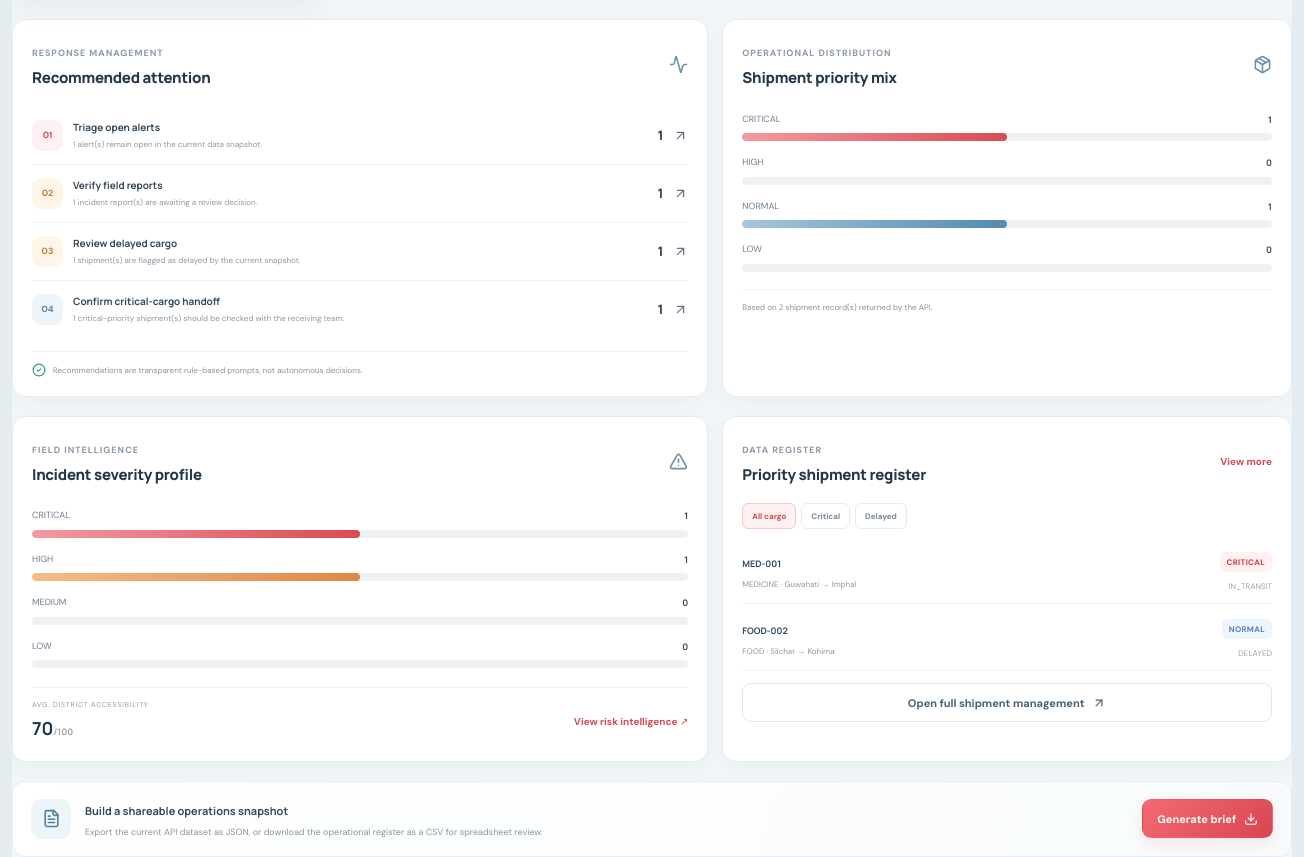
Test: OperationsBrief › filters the shipment register by critical and delayed cargo
(page scrolled)
Click the button "Critical": (826, 516) [801,503,850,529]
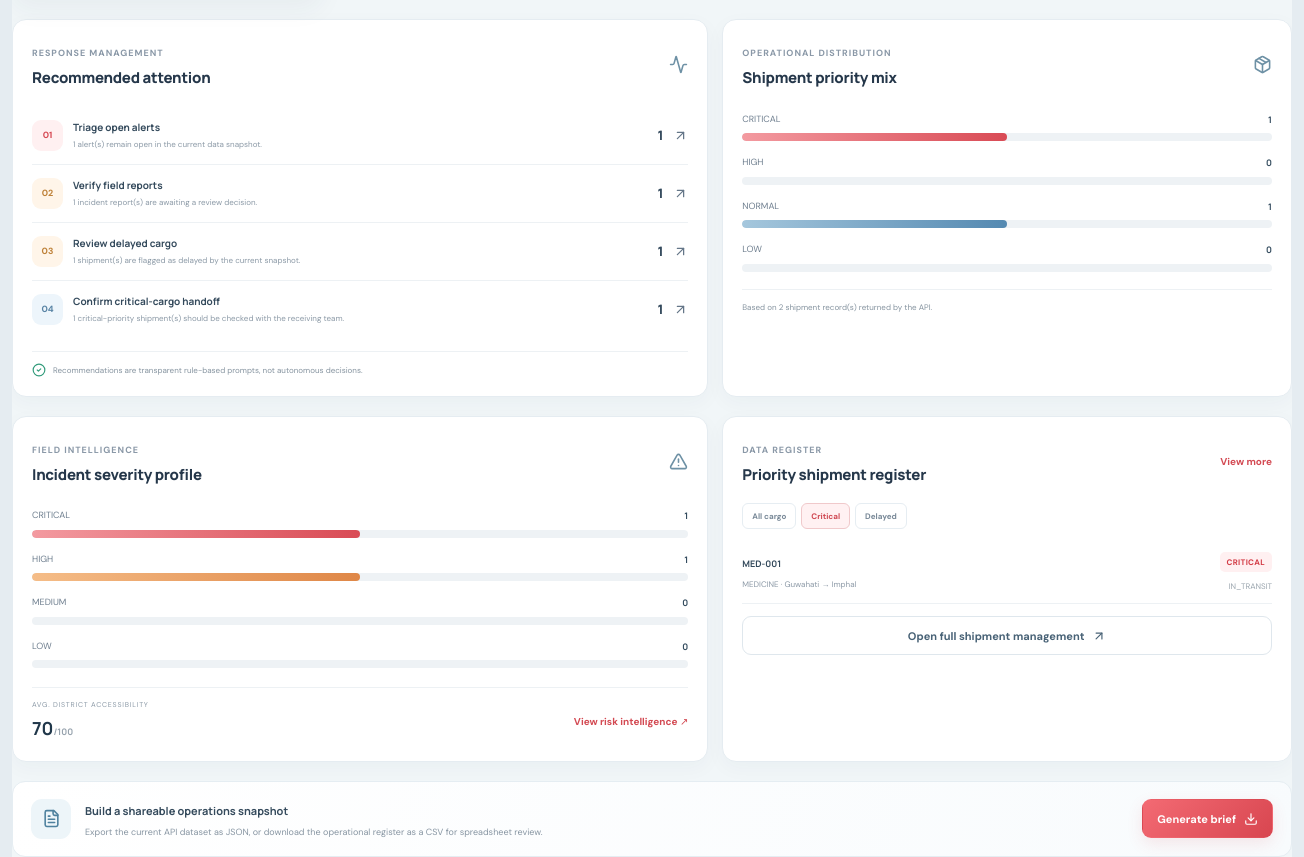
Check: the text "MED-001" is shown, box [742,557,781,570]
Check: the text "FOOD-002" is gone
Click the button "Delayed": (881, 516) [855,503,907,529]
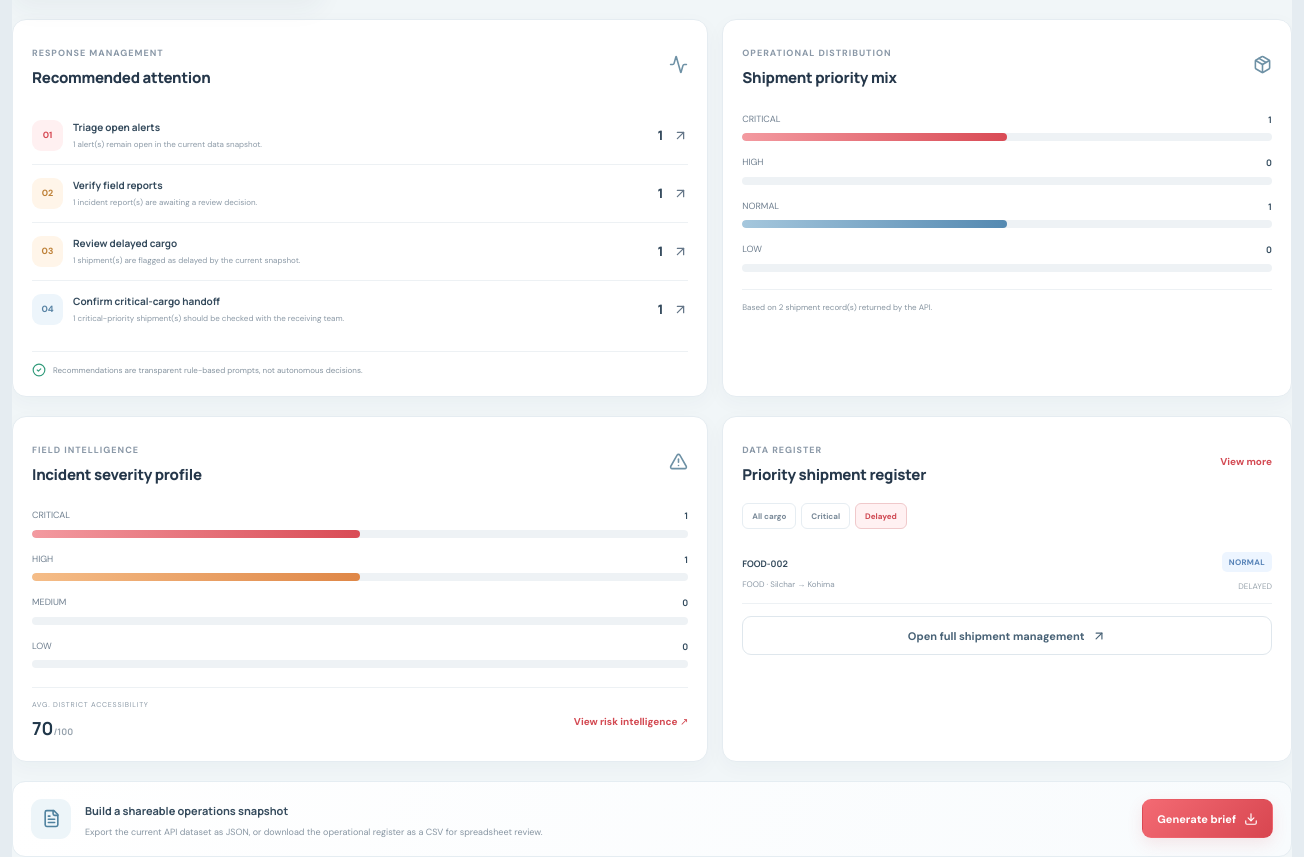
Check: the text "FOOD-002" is shown, box [742,557,788,570]
Check: the text "MED-001" is gone
